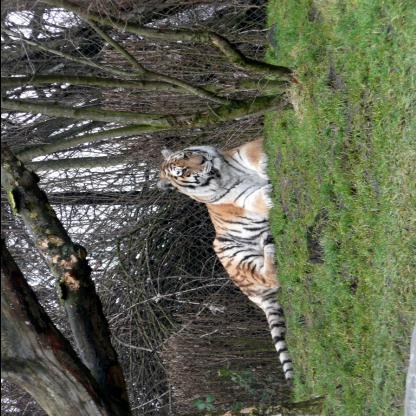tiger: (155, 146, 233, 192)
